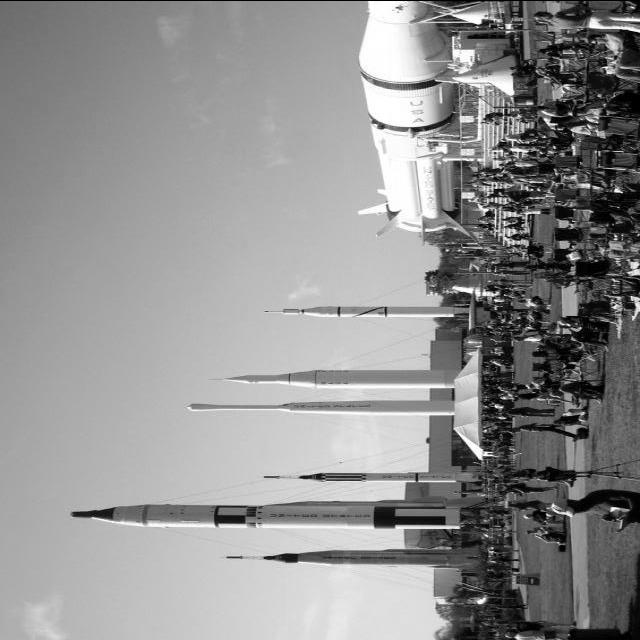missile: (348, 0, 462, 237), (73, 494, 461, 528), (182, 397, 459, 421), (226, 548, 482, 568), (213, 371, 466, 389), (250, 467, 480, 482), (265, 305, 474, 317)
